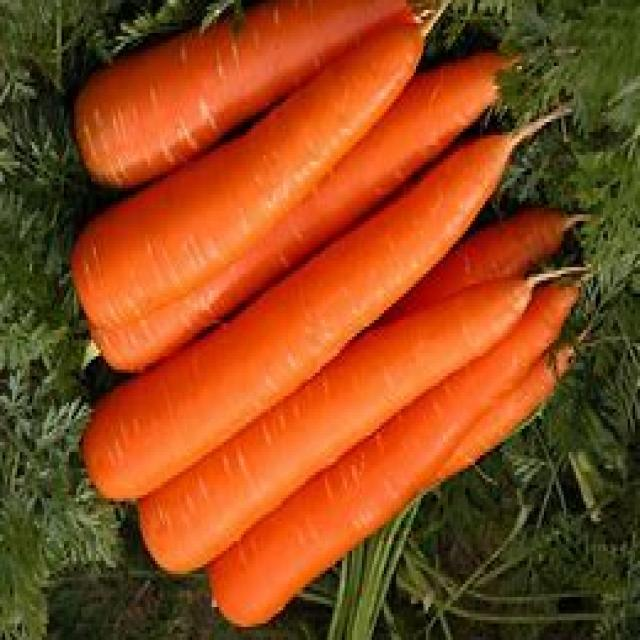carrot: (87, 138, 508, 506), (209, 293, 575, 629), (69, 18, 432, 341), (146, 283, 517, 573), (73, 0, 411, 198)
